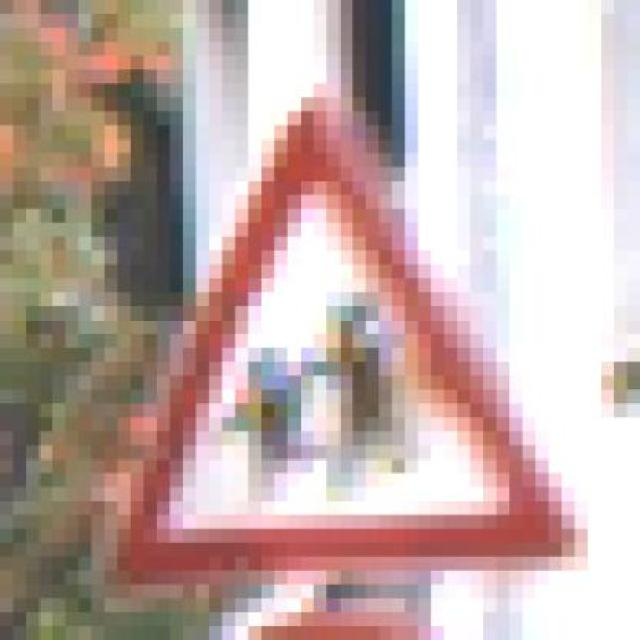Beware of children: (90, 83, 588, 599)
